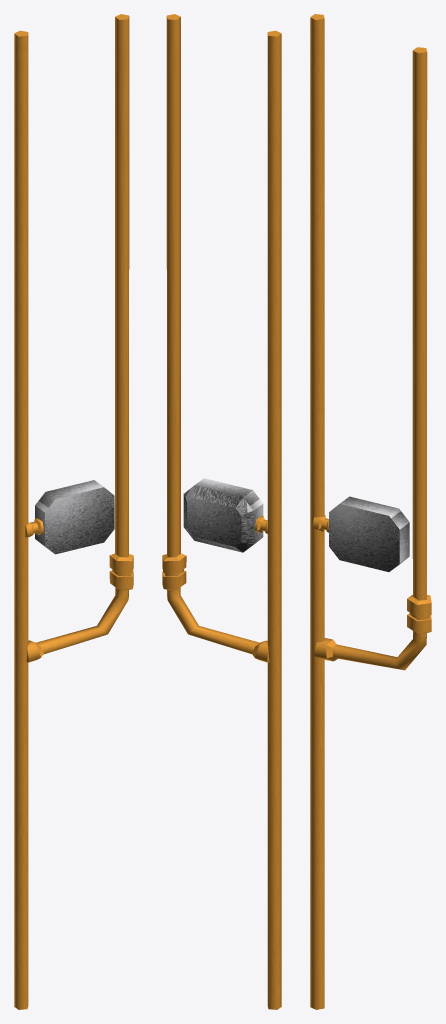
File: pipe1.FBX
3 views of the same model, side by side, from view 1: azimuth 30°, elevation 25°; view 2: azimuth 150°, elevation 25°; view 3: azimuth 330°, elevation 25° (orthographic).
Parts seen in each view (by area): view 1: Cylinder001, Cylinder002, Box001; view 2: Cylinder001, Cylinder002, Box001; view 3: Cylinder001, Cylinder002, Box001.
Boxes of the visible parts, x1,y1,x2,y2 form: Cylinder001: [14, 30, 28, 1009]; Cylinder002: [26, 14, 133, 662]; Box001: [35, 480, 114, 554]; Cylinder001: [267, 30, 281, 1009]; Cylinder002: [162, 14, 269, 662]; Box001: [183, 478, 263, 552]; Cylinder001: [310, 14, 324, 1009]; Cylinder002: [314, 47, 431, 670]; Box001: [329, 496, 409, 571].
Bounding box in the file's own units: 157 × 1248 × 34.2.
Materials: 2 (2 with a texture image).
